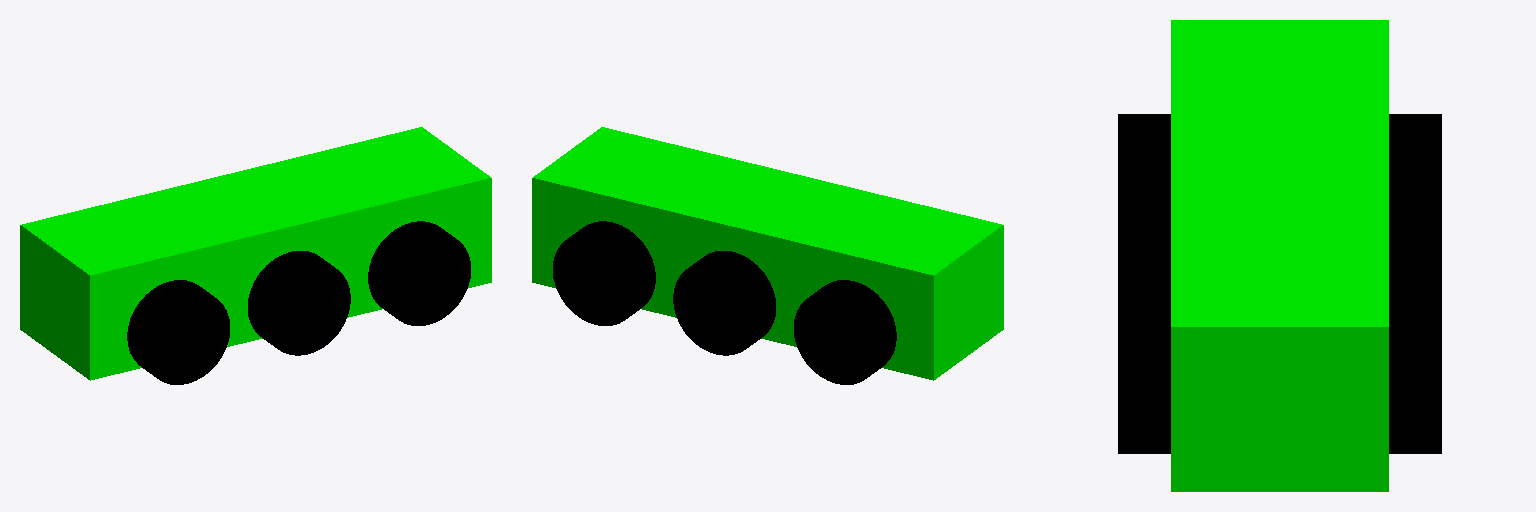
The robot description file, URDF, robot "six_w":
<?xml version="1.0"?>
<robot name="six_w">
	<link name="base_link">
		<visual>
			<origin xyz="0 0 0.03" rpy="0 0 0"/>
			<geometry>
				<box size="0.2 0.06 0.05"/>
			</geometry>
			<material name="green">
				<color rgba="0 1 0 0.5"/>
			</material>
		</visual>
	</link>

	<joint	name="left_wheel_joint_connect_1" type="fixed">
		<origin xyz="0.06 0.035155 0.02155" rpy="0 1.5708 1.5708"/>
		<parent link="base_link"/>
		<child link="left_wheel_link_1"/>
	</joint>

	<link name="left_wheel_link_1">
		<visual>
			<origin xyz="0 0 0" rpy="0 0 0"/>
			<geometry>
				<cylinder length="0.01889" radius="0.02155"/>
			</geometry>
			<material name="black">
				<color rgba="0 0 0 1"/>
			</material>
		</visual>
	</link>
	
	<joint	name="left_wheel_joint_connect_2" type="fixed">
		<origin xyz="0 0.035155 0.02155" rpy="0 1.5708 1.5708"/>
		<parent link="base_link"/>
		<child link="left_wheel_link_2"/>
	</joint>

	<link name="left_wheel_link_2">
		<visual>
			<origin xyz="0 0 0" rpy="0 0 0"/>
			<geometry>
				<cylinder length="0.01889" radius="0.02155"/>
			</geometry>
			<material name="black">
				<color rgba="0 0 0 1"/>
			</material>
		</visual>
	</link>

	<joint	name="left_wheel_joint_connect_3" type="fixed">
		<origin xyz="-0.06 0.035155 0.02155" rpy="0 1.5708 1.5708"/>
		<parent link="base_link"/>
		<child link="left_wheel_link_3"/>
	</joint>

	<link name="left_wheel_link_3">
		<visual>
			<origin xyz="0 0 0" rpy="0 0 0"/>
			<geometry>
				<cylinder length="0.01889" radius="0.02155"/>
			</geometry>
			<material name="black">
				<color rgba="0 0 0 1"/>
			</material>
		</visual>
	</link>


	
	<joint	name="right_wheel_joint_connect_1" type="fixed">
		<origin xyz="0.06 -0.035155 0.02155" rpy="0 1.5708 1.5708"/>
		<parent link="base_link"/>
		<child link="right_wheel_link_1"/>
	</joint>

	<link name="right_wheel_link_1">
		<visual>
			<origin xyz="0 0 0" rpy="0 0 0"/>
			<geometry>
				<cylinder length="0.01889" radius="0.02155"/>
			</geometry>
			<material name="black">
				<color rgba="0 0 0 1"/>
			</material>
		</visual>
	</link>

	<joint	name="right_wheel_joint_connect_2" type="fixed">
		<origin xyz="0 -0.035155 0.02155" rpy="0 1.5708 1.5708"/>
		<parent link="base_link"/>
		<child link="right_wheel_link_2"/>
	</joint>

	<link name="right_wheel_link_2">
		<visual>
			<origin xyz="0 0 0" rpy="0 0 0"/>
			<geometry>
				<cylinder length="0.01889" radius="0.02155"/>
			</geometry>
			<material name="black">
				<color rgba="0 0 0 1"/>
			</material>
		</visual>
	</link>
	<joint	name="right_wheel_joint_connect_3" type="fixed">
		<origin xyz="-0.06 -0.035155 0.02155" rpy="0 1.5708 1.5708"/>
		<parent link="base_link"/>
		<child link="right_wheel_link_3"/>
	</joint>

	<link name="right_wheel_link_3">
		<visual>
			<origin xyz="0 0 0" rpy="0 0 0"/>
			<geometry>
				<cylinder length="0.01889" radius="0.02155"/>
			</geometry>
			<material name="black"> <color rgba="0 0 0 1"/> </material> </visual>
	</link>

</robot>

--- What the picture shows (computed from the rendered views, not written in the file) ---
Views: 3 orthographic renders of the robot side by side, from view 1: azimuth 30°, elevation 25°; view 2: azimuth 150°, elevation 25°; view 3: azimuth 270°, elevation 25°.
Model six_w with 7 links and 6 joints (6 fixed), rooted at base_link, posed all joints at 0.
Visible links, largest first — view 1: base_link, right_wheel_link_3, right_wheel_link_2, right_wheel_link_1; view 2: base_link, left_wheel_link_3, left_wheel_link_2, left_wheel_link_1; view 3: base_link, left_wheel_link_1, right_wheel_link_1, left_wheel_link_2, left_wheel_link_3, right_wheel_link_2, right_wheel_link_3.
Link boxes in pixels (x1=…): base_link: x1=20, y1=127, x2=491, y2=380; right_wheel_link_3: x1=127, y1=280, x2=229, y2=384; right_wheel_link_2: x1=248, y1=251, x2=350, y2=355; right_wheel_link_1: x1=368, y1=221, x2=470, y2=325; base_link: x1=532, y1=127, x2=1003, y2=380; left_wheel_link_3: x1=794, y1=280, x2=896, y2=384; left_wheel_link_2: x1=673, y1=251, x2=775, y2=355; left_wheel_link_1: x1=553, y1=221, x2=655, y2=325; base_link: x1=1171, y1=20, x2=1388, y2=491; left_wheel_link_1: x1=1389, y1=298, x2=1441, y2=453; right_wheel_link_1: x1=1118, y1=298, x2=1170, y2=453; left_wheel_link_2: x1=1389, y1=206, x2=1441, y2=297; left_wheel_link_3: x1=1389, y1=114, x2=1441, y2=205; right_wheel_link_2: x1=1118, y1=206, x2=1170, y2=297; right_wheel_link_3: x1=1118, y1=114, x2=1170, y2=205.
Bounding box of the posed robot: 0.2 × 0.0892 × 0.055 m (x, y, z).
Geometry: primitives only (box / cylinder / sphere), no mesh files.